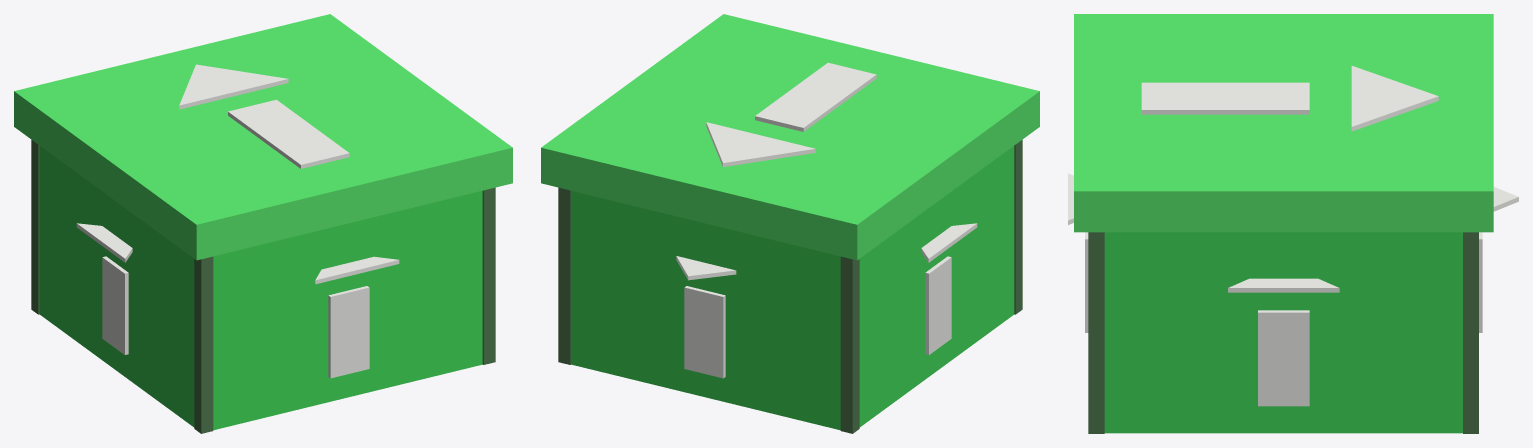
File: caja-suministros.gltf
3 views of the same model, side by side, from view 1: azimuth 30°, elevation 25°; view 2: azimuth 150°, elevation 25°; view 3: azimuth 270°, elevation 25° (orthographic). The views are drawn at different scales.
Parts seen in each view (by area): view 1: Tapa, Cuerpo, FlechaMastil, FlechaTraseraMastil, Refuerzo_-1_-1, FlechaCabeza, Refuerzo_1_-1, FlechaIzqMastil, Refuerzo_-1_1, FlechaTraseraCabeza, FlechaIzqCabeza; view 2: Tapa, Cuerpo, FlechaMastil, FlechaMorroMastil, Refuerzo_-1_1, FlechaCabeza, Refuerzo_1_1, FlechaIzqMastil, Refuerzo_-1_-1, FlechaIzqCabeza, FlechaMorroCabeza; view 3: Tapa, Cuerpo, FlechaMastil, FlechaDerMastil, Refuerzo_1_-1, Refuerzo_1_1, FlechaCabeza, FlechaDerCabeza.
Part boxes in pixels (bbox=[...]): Tapa: bbox=[14, 14, 512, 260]; Cuerpo: bbox=[39, 146, 482, 430]; FlechaMastil: bbox=[228, 99, 349, 168]; FlechaTraseraMastil: bbox=[328, 286, 369, 378]; Refuerzo_-1_-1: bbox=[194, 256, 213, 433]; FlechaCabeza: bbox=[179, 64, 288, 109]; Refuerzo_1_-1: bbox=[482, 187, 495, 364]; FlechaIzqMastil: bbox=[102, 256, 128, 354]; Refuerzo_-1_1: bbox=[31, 140, 39, 314]; FlechaTraseraCabeza: bbox=[315, 256, 399, 284]; FlechaIzqCabeza: bbox=[76, 223, 132, 262]; Tapa: bbox=[541, 14, 1039, 260]; Cuerpo: bbox=[571, 146, 1014, 430]; FlechaMastil: bbox=[755, 62, 876, 131]; FlechaMorroMastil: bbox=[684, 286, 725, 378]; Refuerzo_-1_1: bbox=[840, 256, 859, 433]; FlechaCabeza: bbox=[706, 122, 815, 167]; Refuerzo_1_1: bbox=[558, 187, 571, 364]; FlechaIzqMastil: bbox=[925, 256, 951, 354]; Refuerzo_-1_-1: bbox=[1014, 140, 1022, 314]; FlechaIzqCabeza: bbox=[921, 223, 977, 262]; FlechaMorroCabeza: bbox=[676, 256, 736, 280]; Tapa: bbox=[1074, 14, 1493, 232]; Cuerpo: bbox=[1104, 232, 1462, 433]; FlechaMastil: bbox=[1141, 82, 1309, 114]; FlechaDerMastil: bbox=[1258, 310, 1309, 406]; Refuerzo_1_-1: bbox=[1088, 232, 1104, 433]; Refuerzo_1_1: bbox=[1463, 232, 1478, 433]; FlechaCabeza: bbox=[1351, 66, 1438, 131]; FlechaDerCabeza: bbox=[1228, 278, 1339, 292].
Bounding box in the file's own units: 6.68 × 4.36 × 6.98.
